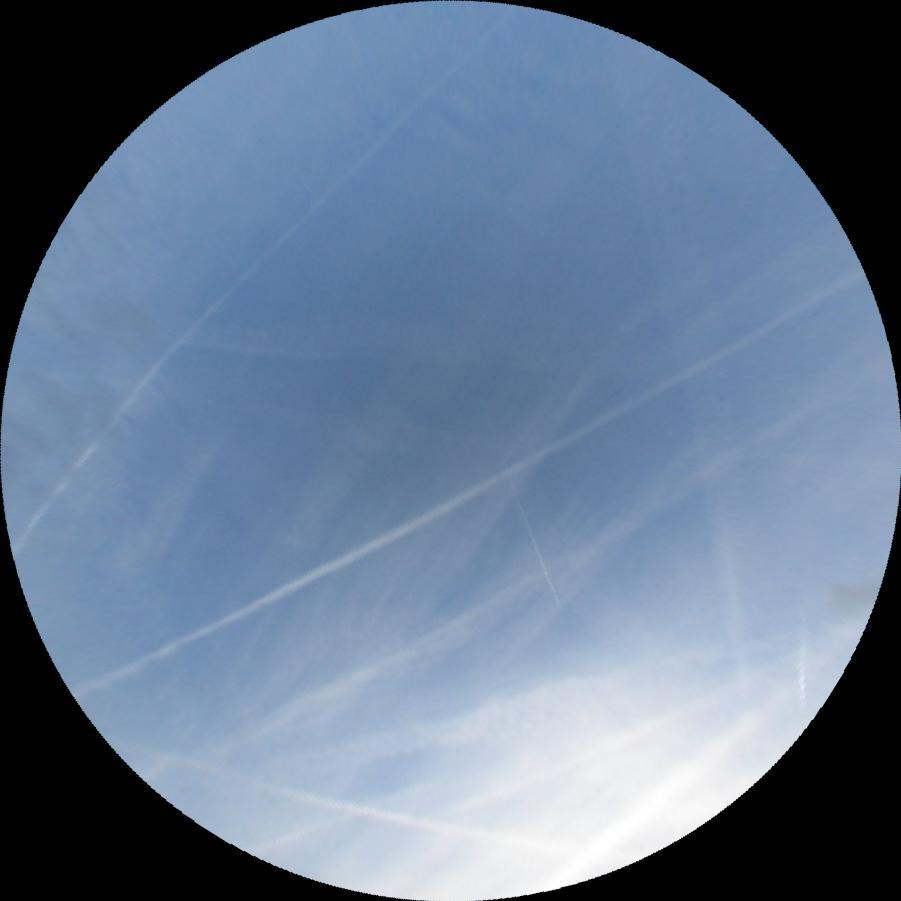contrail old: (70, 264, 872, 709), (106, 735, 545, 866)
contrail young: (480, 397, 559, 603), (798, 614, 806, 711)
